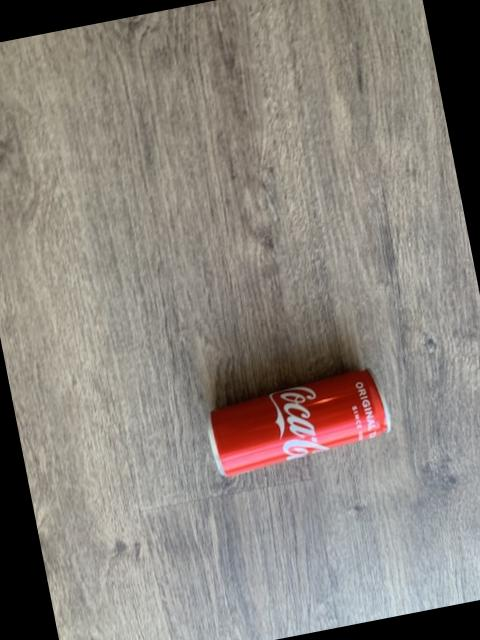metal: (207, 367, 387, 474)
